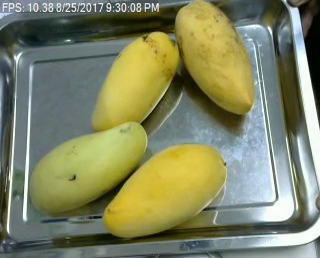Mango: (104, 143, 225, 237), (28, 121, 147, 215), (175, 0, 255, 114), (91, 30, 179, 131)
